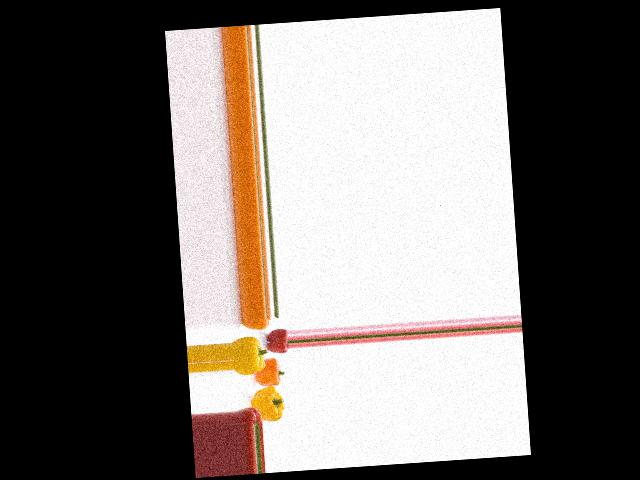bell_pepper: (241, 315, 272, 332)
